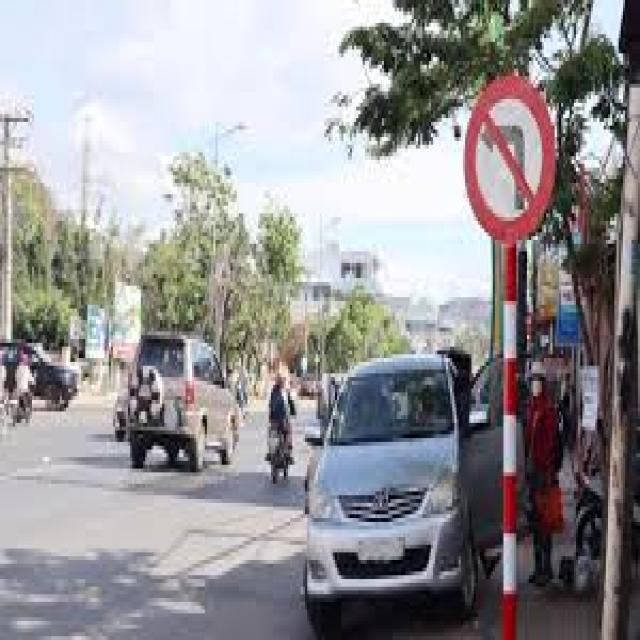Bien bao cam re trai: (448, 65, 580, 258)
